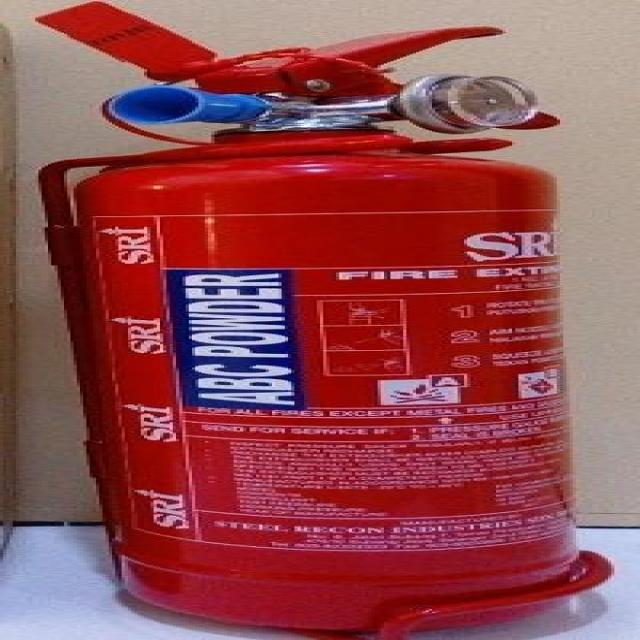fire_extinguisher: (26, 0, 588, 639)
